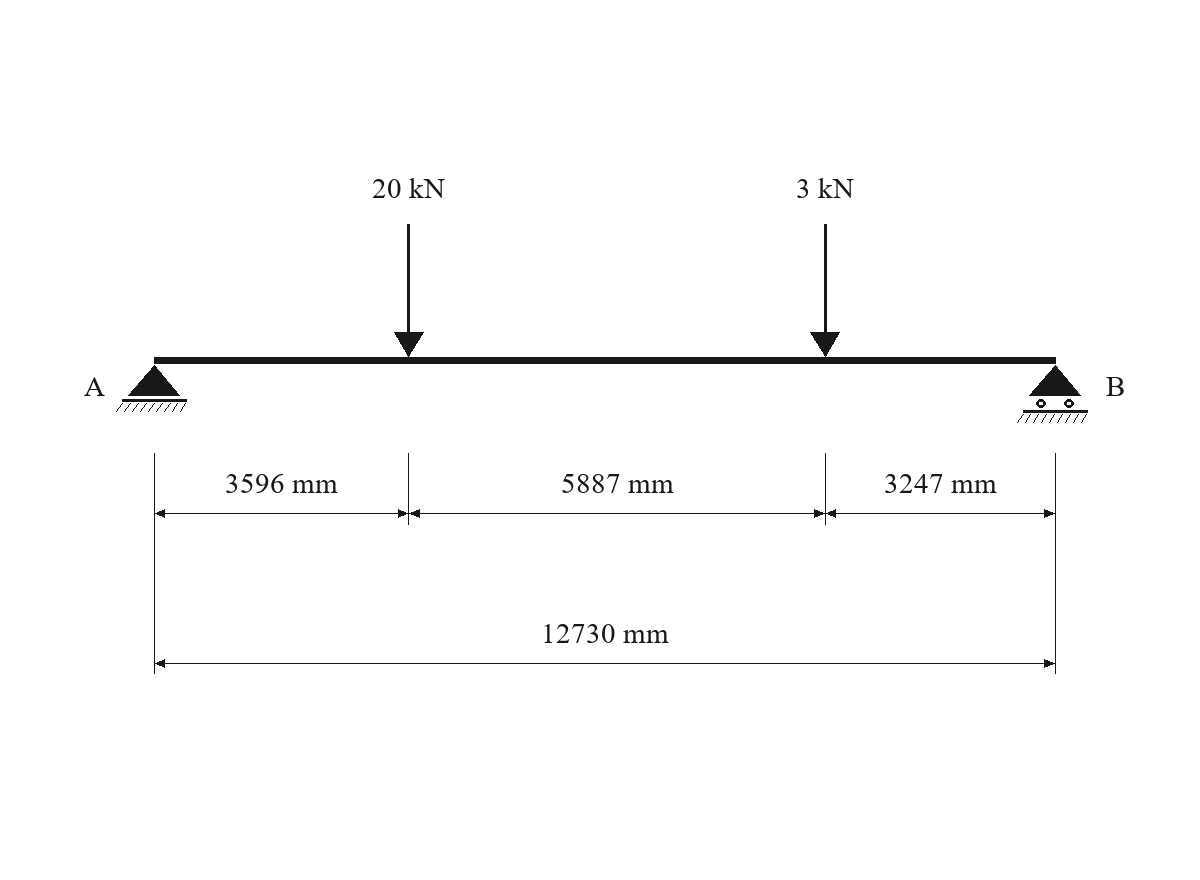pin_support: (116, 365, 187, 412)
point_load: (394, 224, 424, 357), (810, 224, 840, 357)
roller_support: (1017, 365, 1088, 423)
